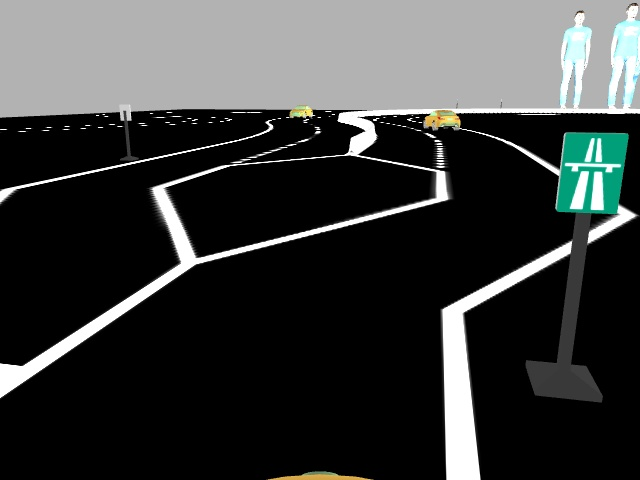HighwayEntrance: (553, 125, 630, 213)
